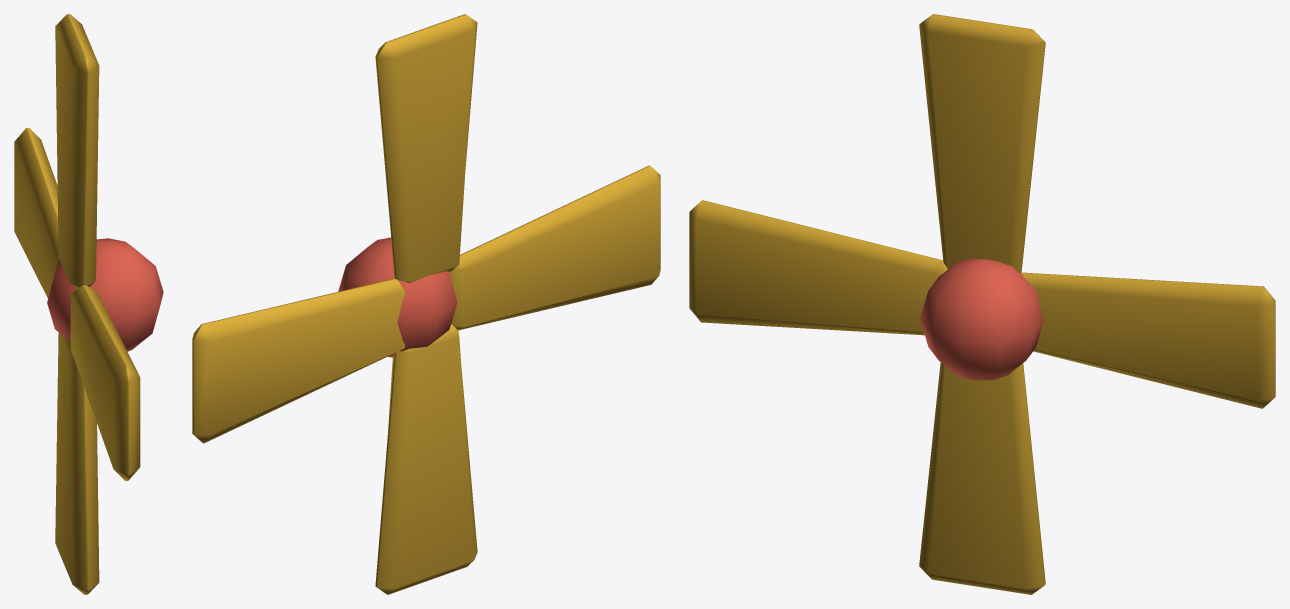
The model's file is SM_Station_WindMachine_Blades.fbx.
The picture shows the model from 3 angles, left to right: view 1: azimuth 30°, elevation 25°; view 2: azimuth 150°, elevation 25°; view 3: azimuth 270°, elevation 25°; orthographic projection. The views are drawn at different scales.
Parts seen in each view (by area): view 1: SM_Station_WindMachine_Blades; view 2: SM_Station_WindMachine_Blades; view 3: SM_Station_WindMachine_Blades.
Boxes of the visible parts, left/top/right/bottom form: SM_Station_WindMachine_Blades: left=14, top=14, right=163, bottom=594; SM_Station_WindMachine_Blades: left=192, top=14, right=660, bottom=594; SM_Station_WindMachine_Blades: left=689, top=14, right=1275, bottom=594.
Bounding box in the file's own units: 40.86 × 110 × 104.
